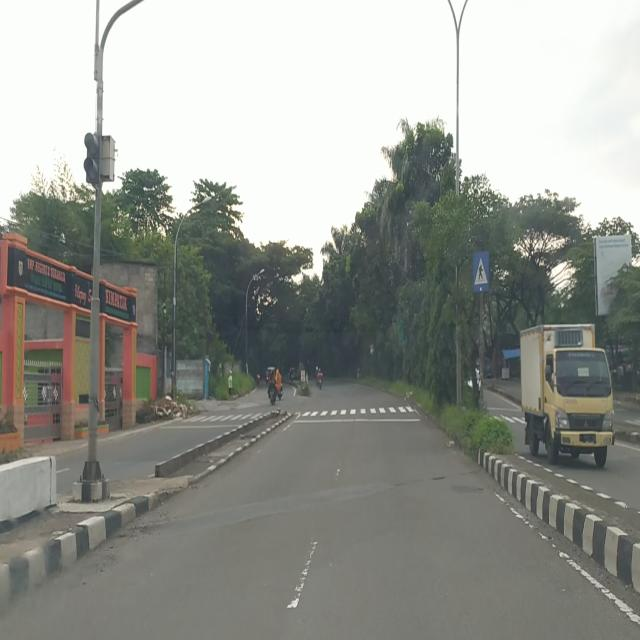Sewer Cover: (393, 466, 477, 488)
